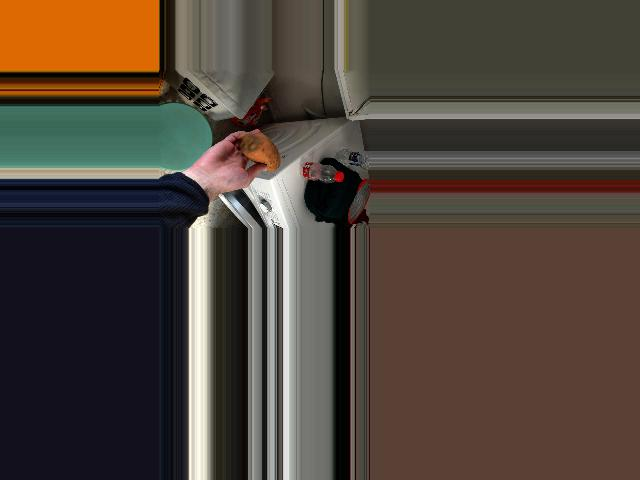sweet_potato: (235, 136, 280, 175)
